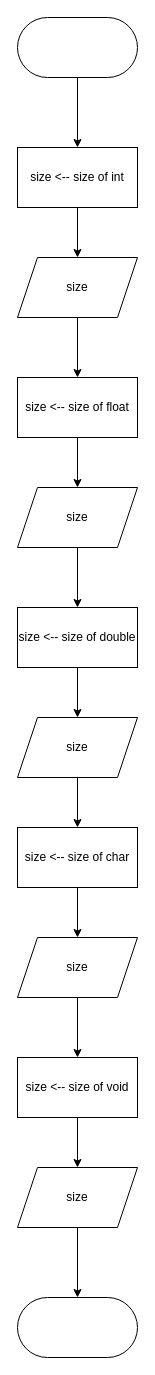
Some shapes in this 155 by 1375 pixel diagram are drawn without their labels. The shapes that lost their labels are listed below. From the top down, each one's box as (x1, y1, x2, y2) in pixels, then its label:
(16, 16, 138, 78): Main
(16, 1296, 138, 1358): END
